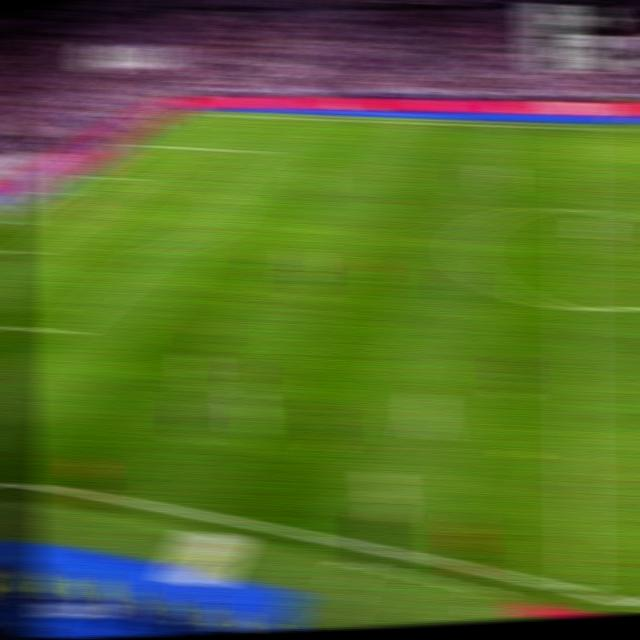bigarea_bottom_inner: (51, 320, 78, 342)
bigarea_top_inner: (248, 143, 272, 158)
bigarea_top_outter: (127, 136, 153, 148)
bottom_arc_area_intersection: (139, 243, 165, 259)
corner: (175, 106, 201, 117)
halfcircle_bottom: (562, 295, 591, 319)
halfcircle_top: (563, 197, 591, 218)
midline_bottom_intersection: (561, 574, 597, 603)
midline_top_intersection: (564, 120, 589, 134)
smallarea_bottom_inner: (15, 244, 42, 258)
smallarea_top_inner: (120, 173, 143, 184)
top_arc_area_intersection: (205, 183, 230, 196)
